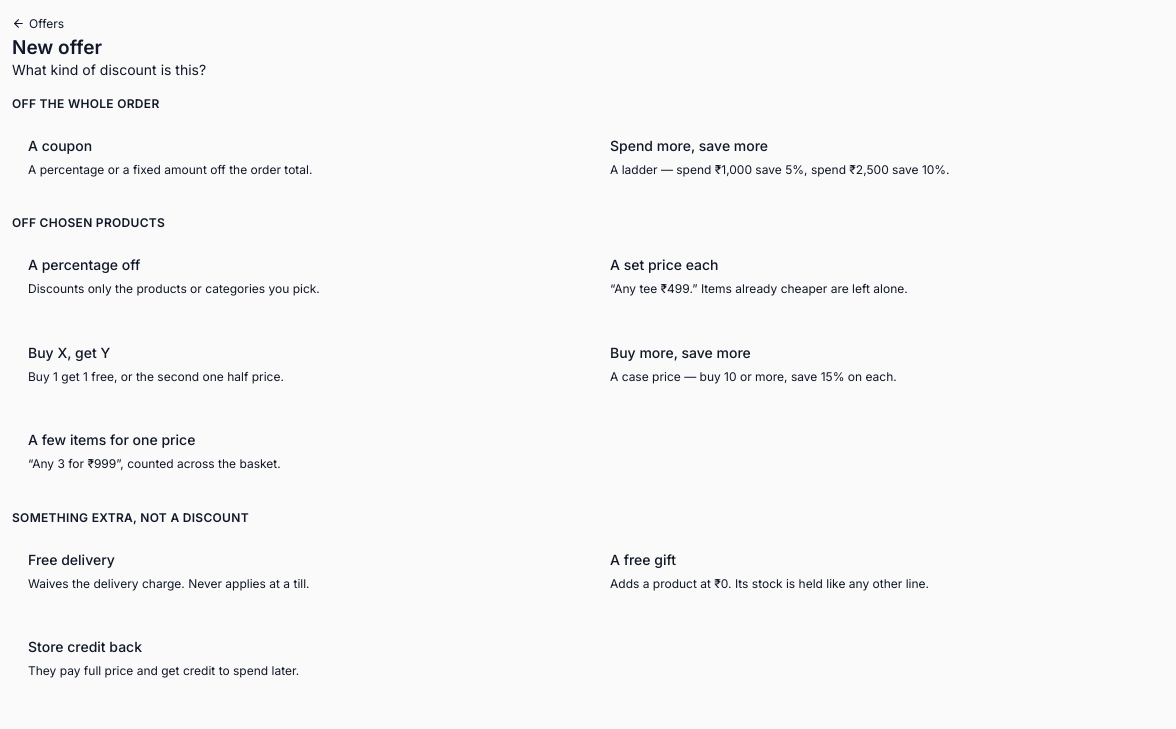
Scenario: OfferForm — fields › the coupon family › keeps the stored reward types — the schema is not regrouped
Click the button "A coupon A percentage or a fixed amount off the order total." at coordinates (60, 145), box [12,120,582,195]
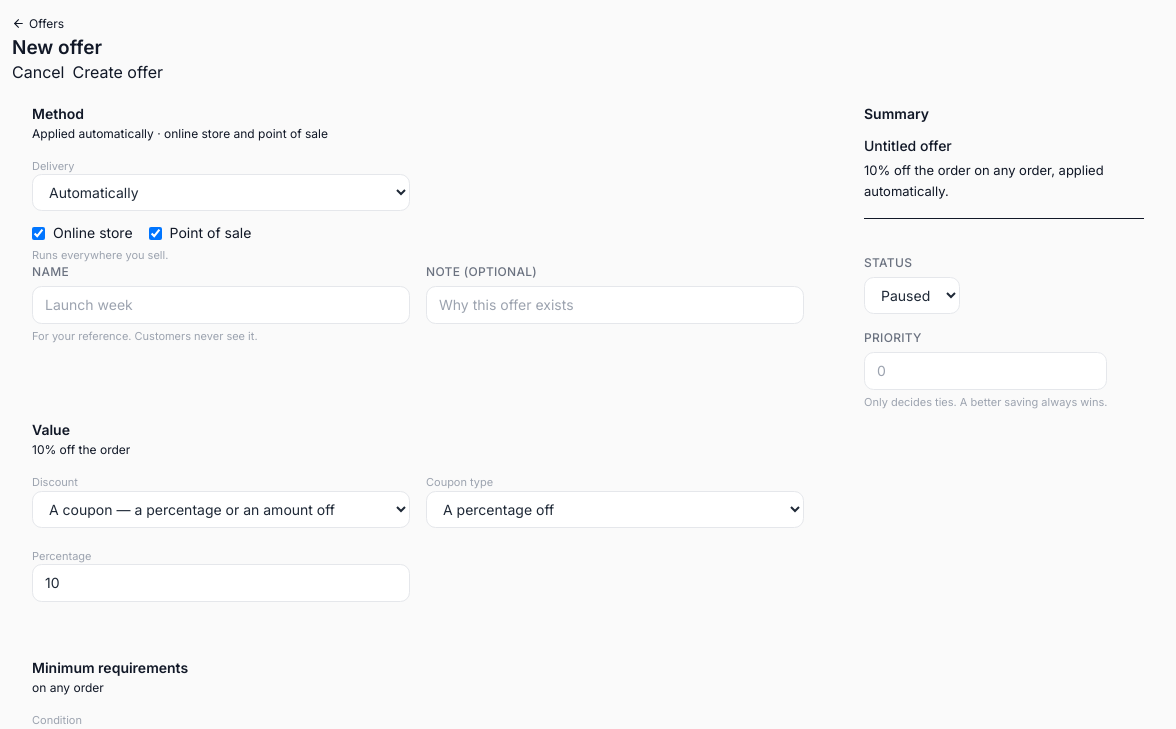
Expected: the text "Percentage" is shown, [32,549,92,563]
Result: the text "Coupon type" is shown at [426,475,493,489]
Select "A fixed amount off" in the dropdown labelled "Coupon type" at coordinates (615, 509), box [426,491,804,528]
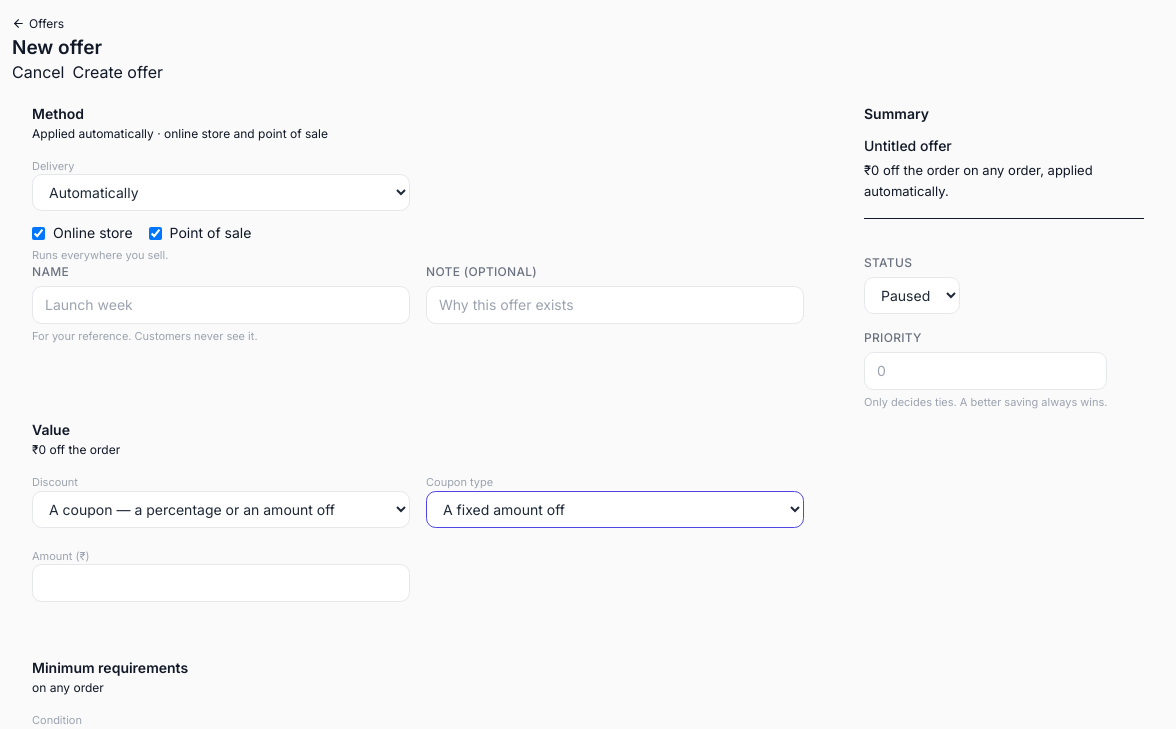
Result: the text "Amount (₹)" is shown at [32,549,90,563]
